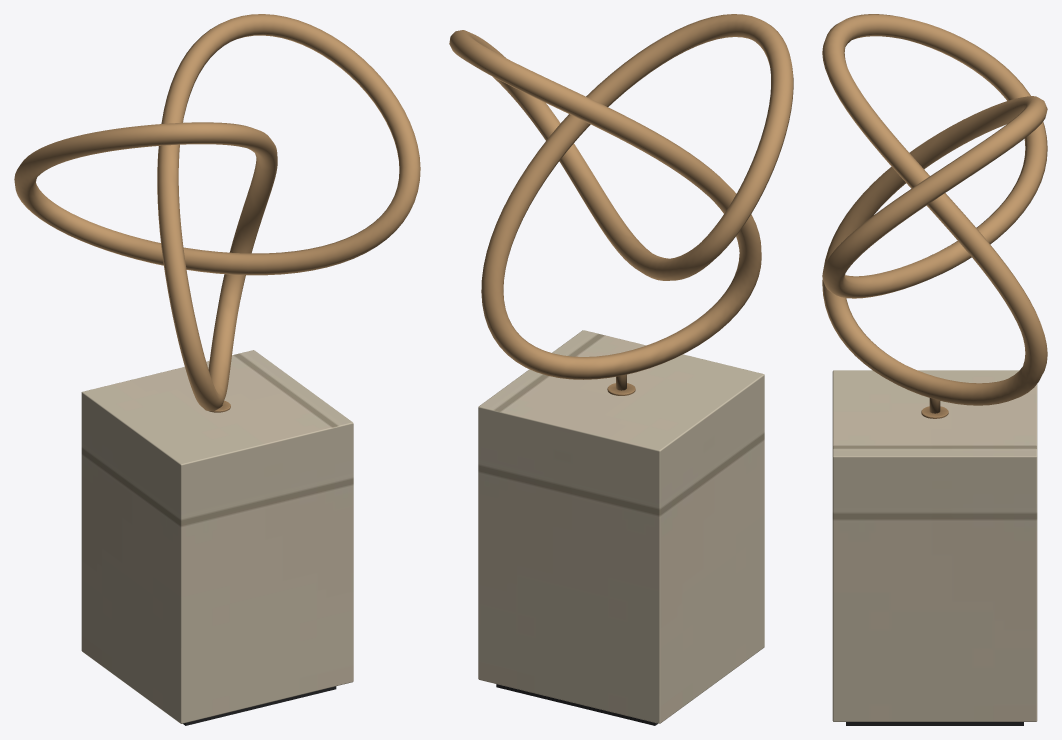
The model's file is entry_sculpture.gltf.
3 renders of one model, left to right at view 1: azimuth 30°, elevation 25°; view 2: azimuth 150°, elevation 25°; view 3: azimuth 270°, elevation 25°, orthographic. The views are drawn at different scales.
Parts seen in each view (by area): view 1: EntrySculpture_Plinth, EntrySculpture_Knot; view 2: EntrySculpture_Plinth, EntrySculpture_Knot, EntrySculpture_Base; view 3: EntrySculpture_Plinth, EntrySculpture_Knot, EntrySculpture_Base.
Part boxes in pixels (<box>): EntrySculpture_Plinth: <box>81,350,353,723</box>; EntrySculpture_Knot: <box>14,14,420,411</box>; EntrySculpture_Plinth: <box>478,330,764,723</box>; EntrySculpture_Knot: <box>449,14,793,379</box>; EntrySculpture_Base: <box>496,684,657,725</box>; EntrySculpture_Plinth: <box>832,370,1037,721</box>; EntrySculpture_Knot: <box>822,14,1047,405</box>; EntrySculpture_Base: <box>846,722,1023,725</box>.
Size of the model in its own units: 1.19 by 2.07 by 0.6829.
3 materials, 1 textured.
